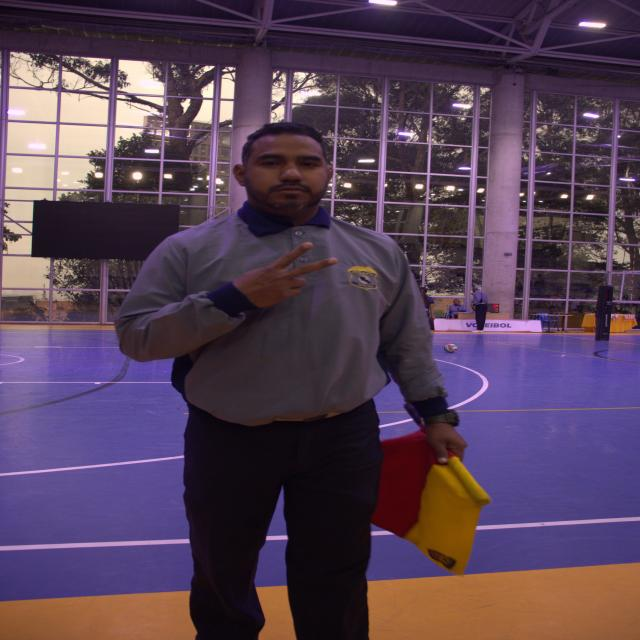volleyball: (444, 343, 458, 353)
